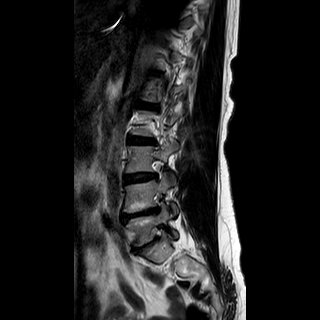RFS1: (146, 156, 167, 186)
RFS3: (145, 188, 169, 220)
